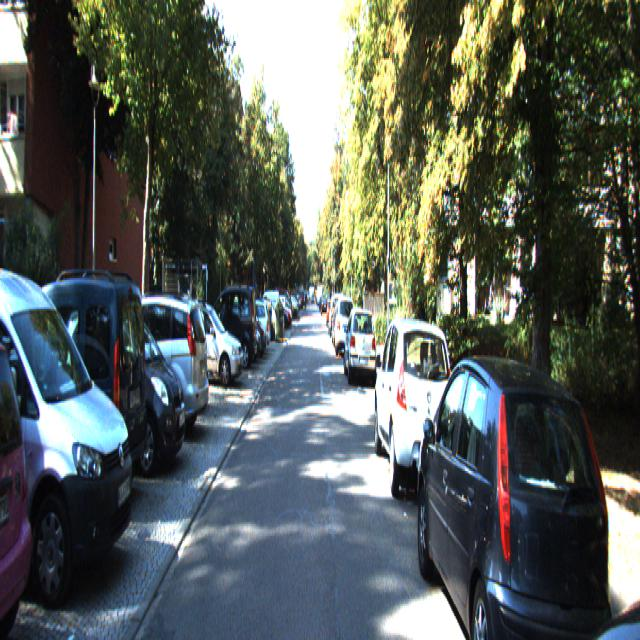Car: (414, 338, 630, 638), (0, 245, 142, 607), (0, 265, 150, 525), (55, 302, 188, 480), (80, 296, 209, 452), (373, 314, 459, 512), (167, 296, 244, 388), (198, 288, 257, 378), (222, 297, 270, 357), (344, 306, 377, 388), (334, 296, 356, 358)
